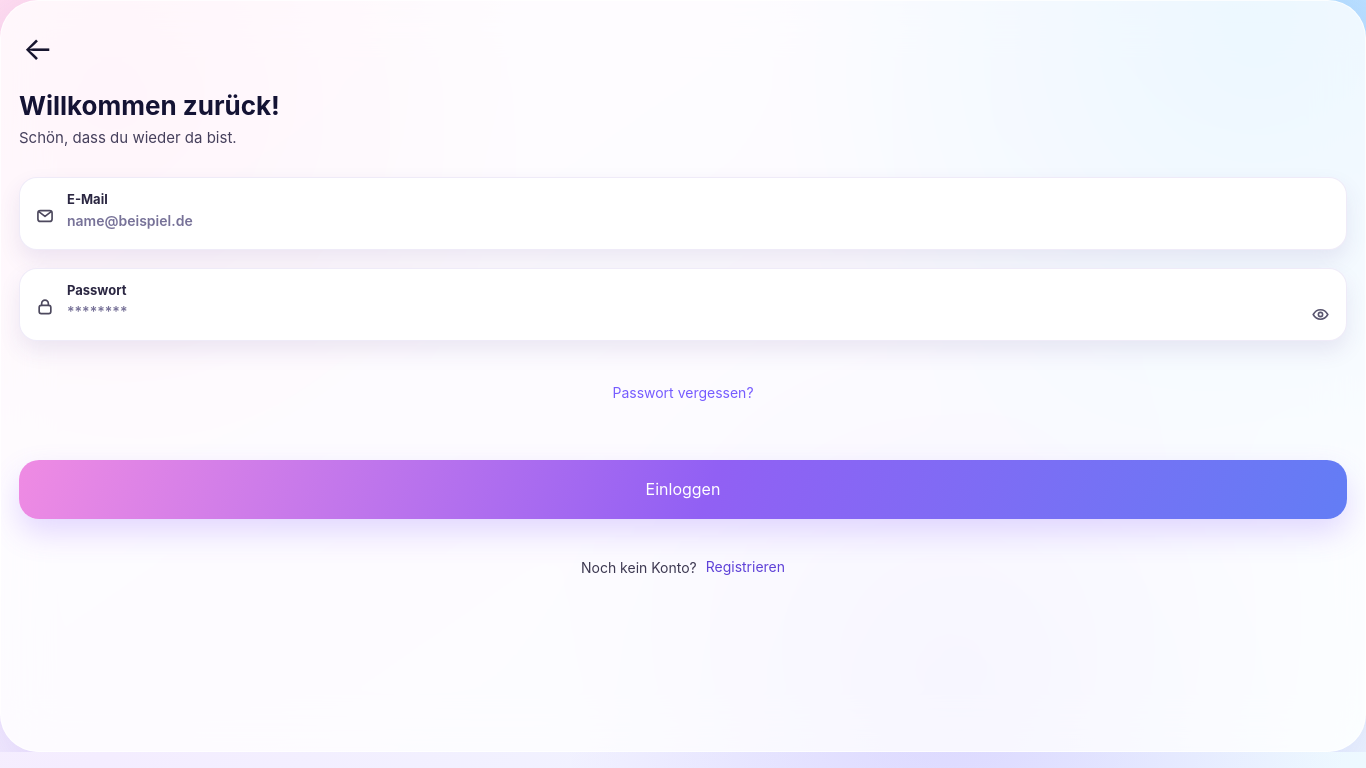
it: authentication pages › shows friendly login errors for invalid data
Type "wrong@example.com" into the field labelled "E-Mail" at (683, 220), box x1=67 y1=212 x2=1299 y2=228
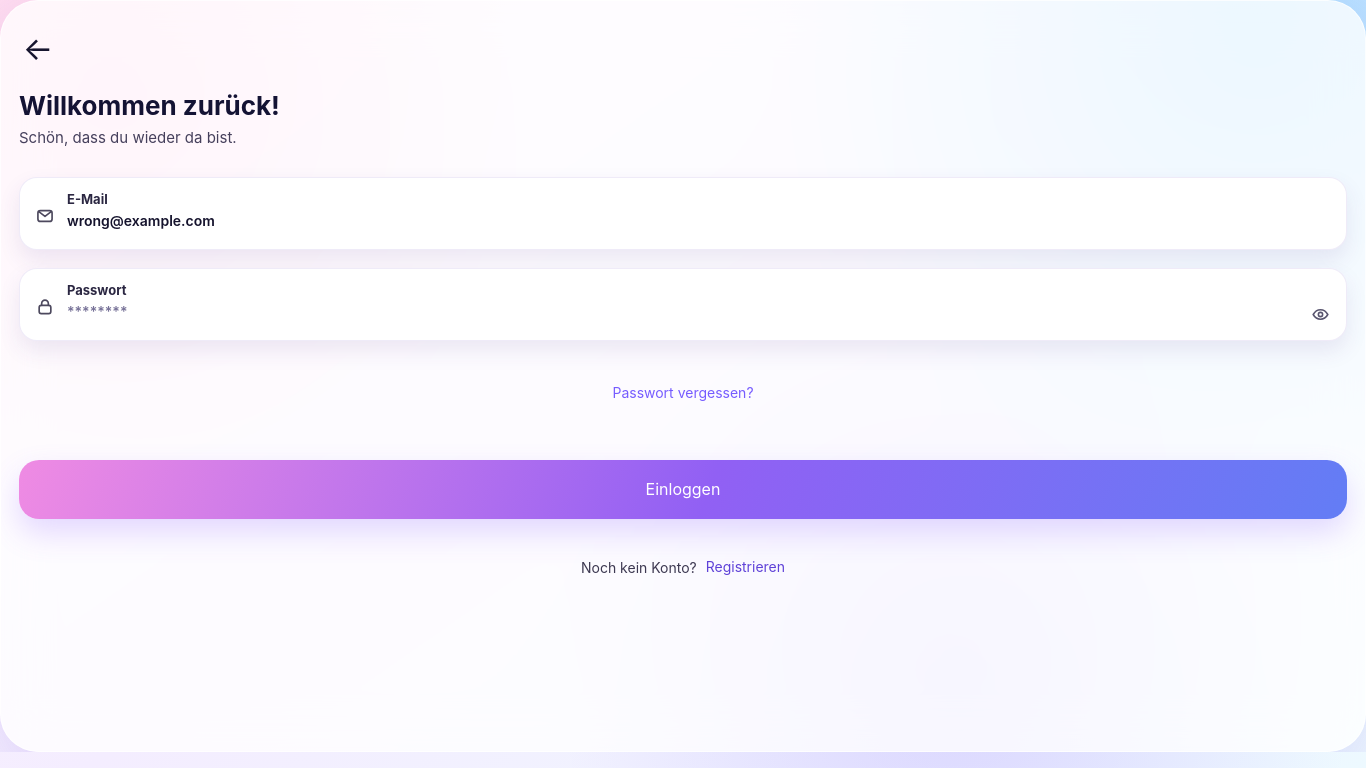
Type "secret123" into the password field labelled "Passwort" at (683, 311), box x1=67 y1=302 x2=1299 y2=320
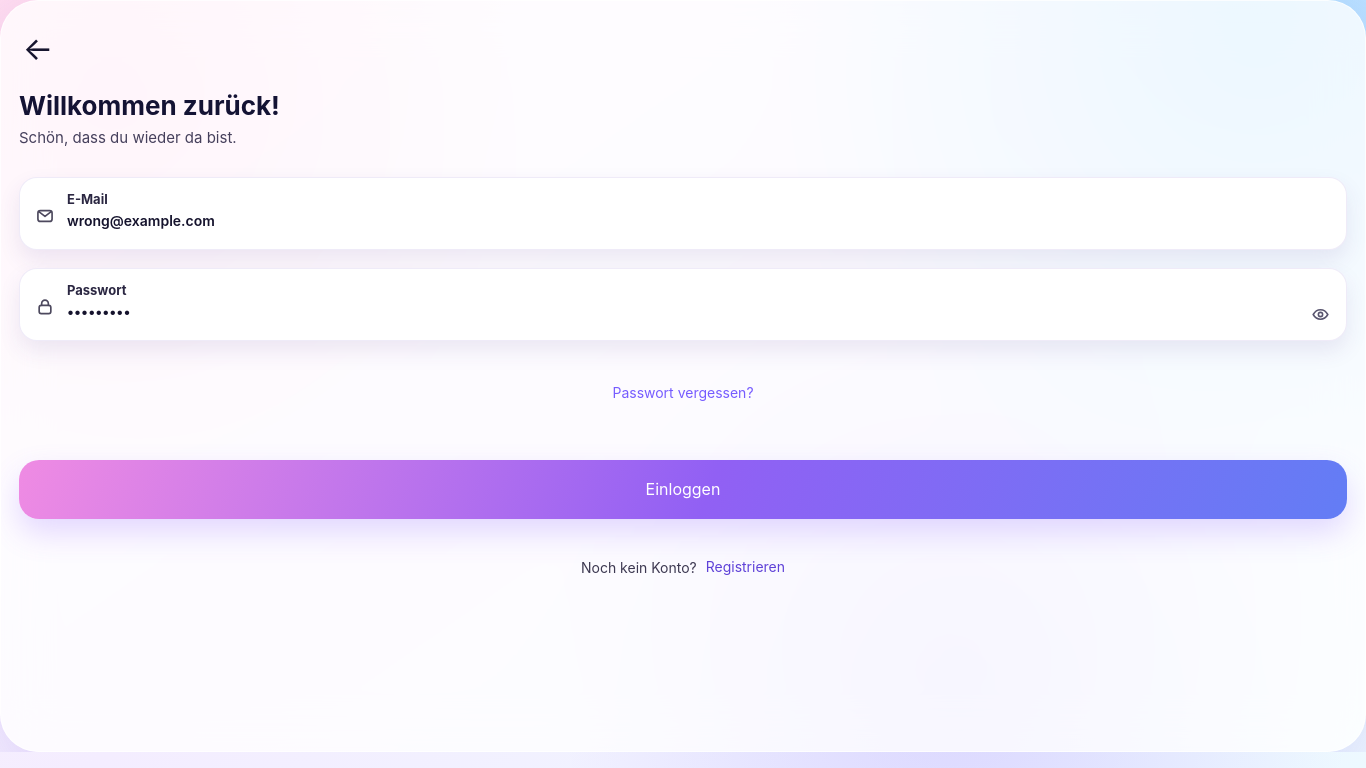
Click the button "Einloggen" at (683, 489), box x1=19 y1=460 x2=1347 y2=518
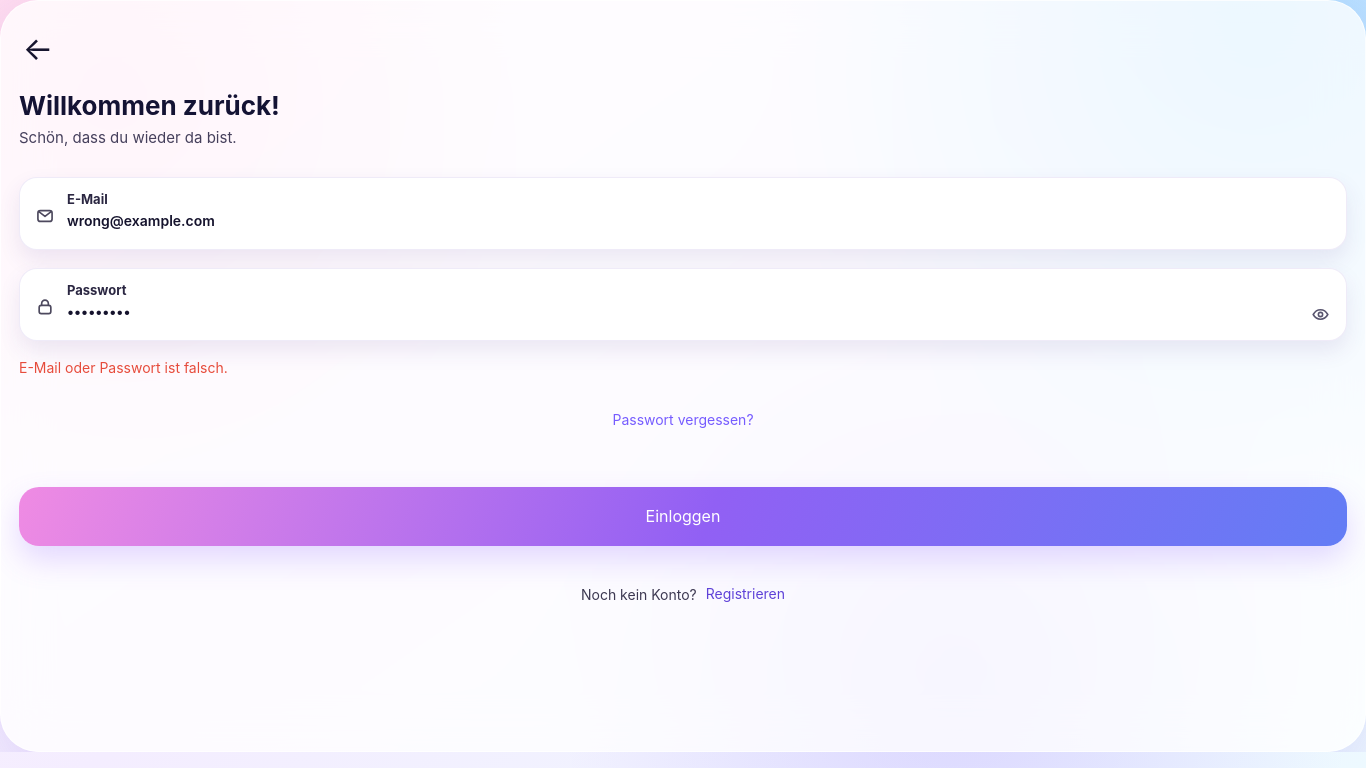
Now the text "E-Mail oder Passwort ist falsch." is shown, box x1=19 y1=358 x2=228 y2=376
